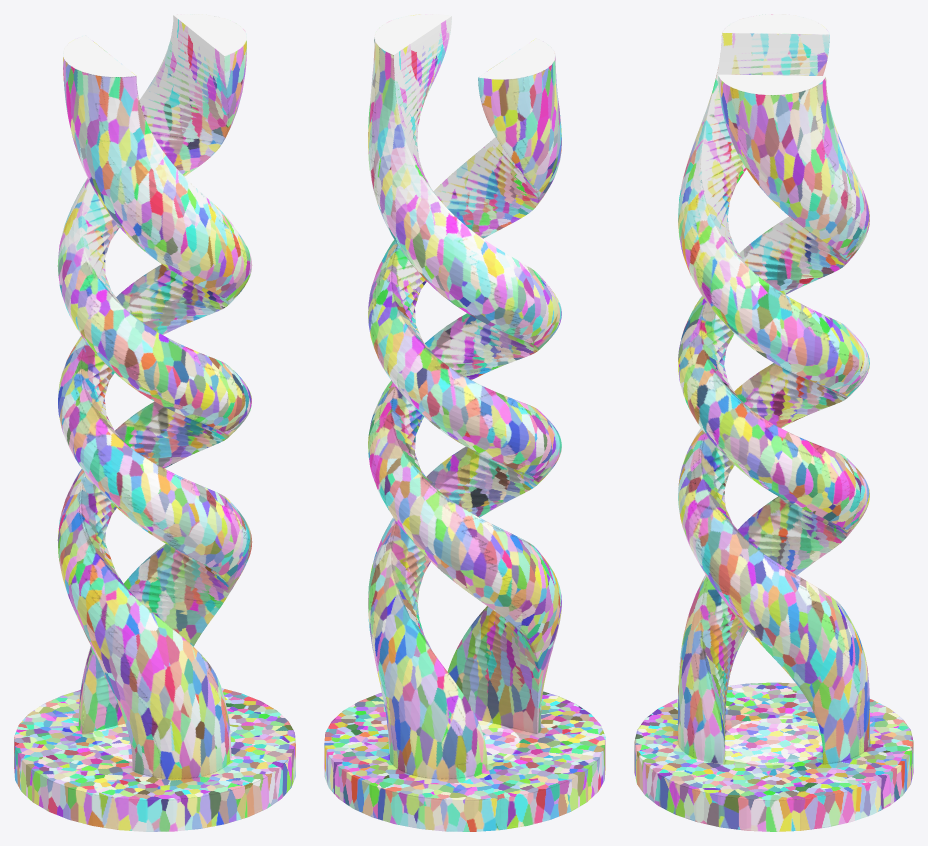
The model's file is Sculpture1.glb.
The picture shows the model from 3 angles, left to right: view 1: azimuth 30°, elevation 25°; view 2: azimuth 150°, elevation 25°; view 3: azimuth 270°, elevation 25°; orthographic projection.
Parts seen in each view (by area): view 1: Circle; view 2: Circle; view 3: Circle.
Part boxes in pixels (box(x1,y1,x2,y2)): Circle: box(14, 14, 295, 831); Circle: box(324, 14, 605, 831); Circle: box(634, 14, 913, 831).
Bounding box in the file's own units: 2 × 5.68 × 2.
1 material, 1 textured.
